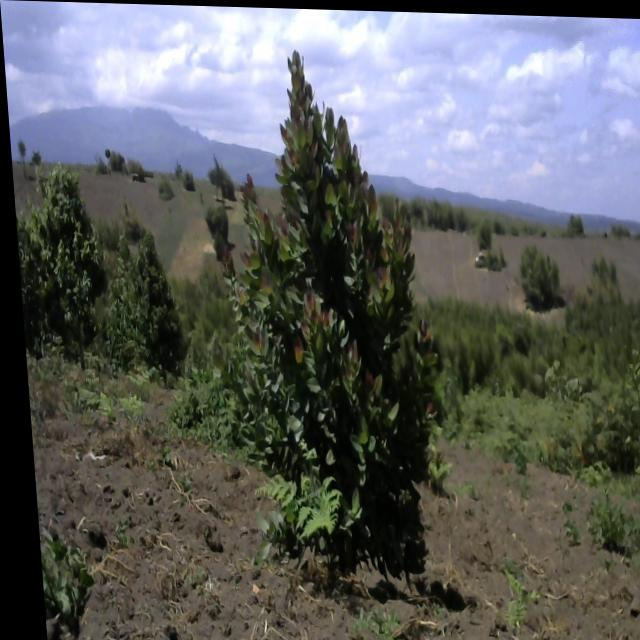other: (200, 45, 457, 566), (17, 150, 98, 368), (104, 228, 182, 378), (512, 239, 557, 307)
